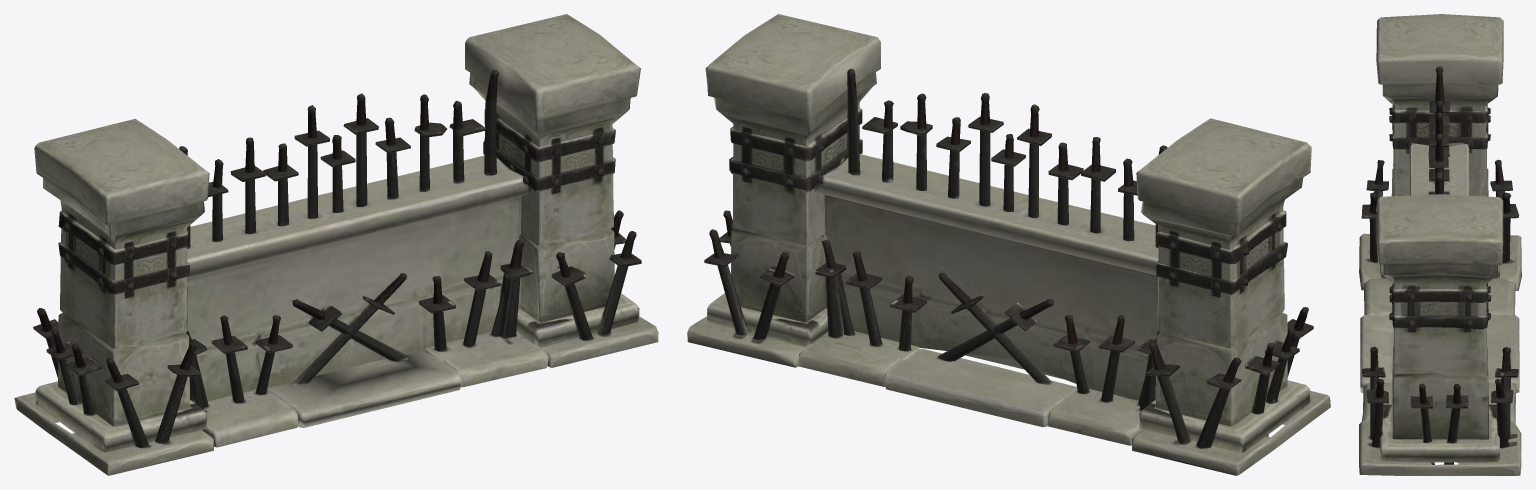
Rendered from pv_muro_alto.glb.
3 renders of one model, left to right at view 1: azimuth 30°, elevation 25°; view 2: azimuth 150°, elevation 25°; view 3: azimuth 270°, elevation 25°, orthographic. The views are drawn at different scales.
Visible parts, largest first — view 1: Mesh_0; view 2: Mesh_0; view 3: Mesh_0.
Part boxes in pixels (box(x1,y1,x2,y2)): Mesh_0: box(14, 14, 658, 475); Mesh_0: box(687, 14, 1330, 475); Mesh_0: box(1359, 14, 1521, 475).
Size of the model in its own units: 1 by 0.4893 by 0.2988.
1 material, 1 textured.
